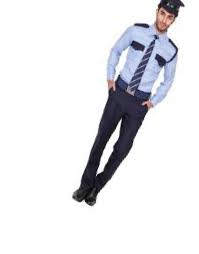uniform: (64, 1, 194, 207)
